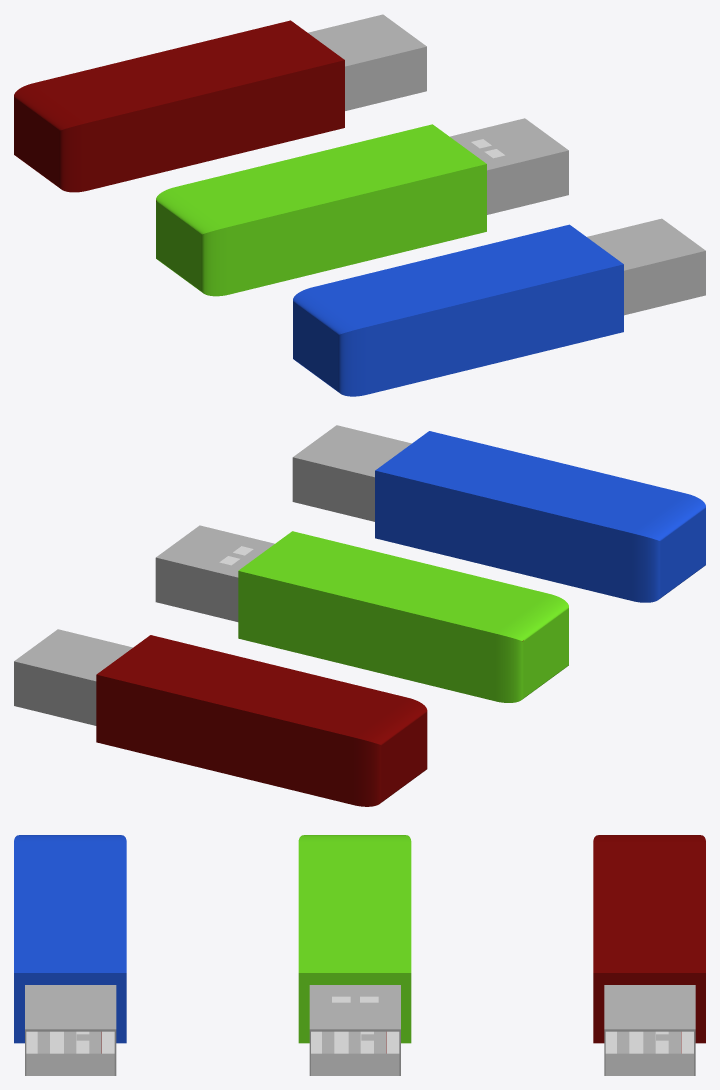
Rendered from Flashdrive_models.fbx.
The picture shows the model from 3 angles, top to bottom: view 1: azimuth 30°, elevation 25°; view 2: azimuth 150°, elevation 25°; view 3: azimuth 270°, elevation 25°; orthographic projection. The views are drawn at different scales.
Visible parts, largest first — view 1: Flashdrive_blue, Cube.008, Flashdrive_green; view 2: Cube.008, Flashdrive_blue, Flashdrive_green; view 3: Flashdrive_green, Cube.008, Flashdrive_blue.
Boxes of the visible parts, <box> form: Flashdrive_blue: <box>293,218,705,396</box>; Cube.008: <box>14,14,426,192</box>; Flashdrive_green: <box>156,118,568,296</box>; Cube.008: <box>14,629,427,806</box>; Flashdrive_blue: <box>292,425,705,602</box>; Flashdrive_green: <box>155,525,568,702</box>; Flashdrive_green: <box>298,835,411,1075</box>; Cube.008: <box>593,835,705,1075</box>; Flashdrive_blue: <box>14,835,126,1075</box>.
Bounding box in the file's own units: 178 × 31.25 × 278.
